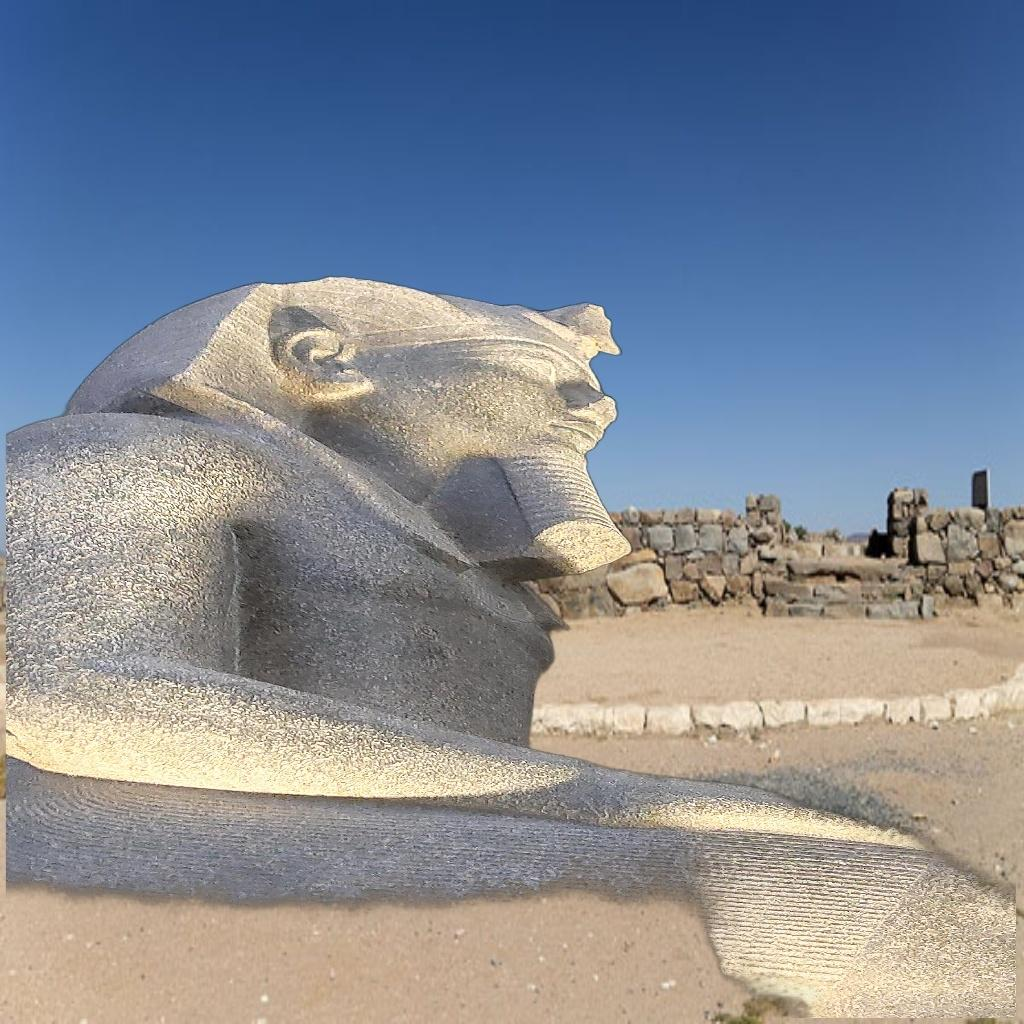Seated Statue of Amenhotep III: (6, 272, 1016, 1018)
